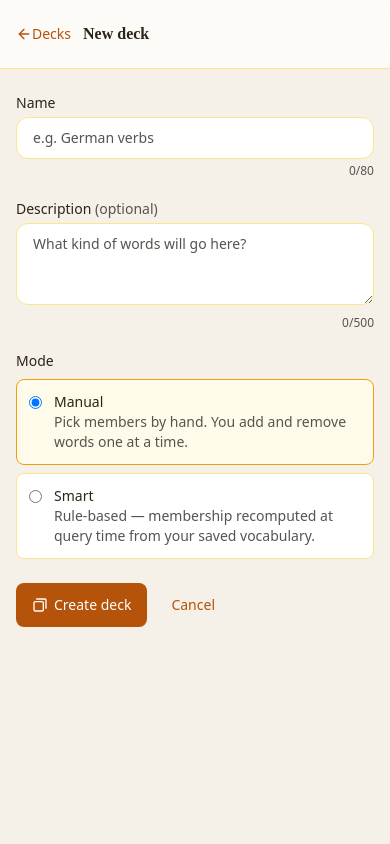
Test: non-ApiError during submission shows generic fallback error message
In the field with test id "deck-name-input": point(195, 138) [16,117,374,159], type "Test deck"
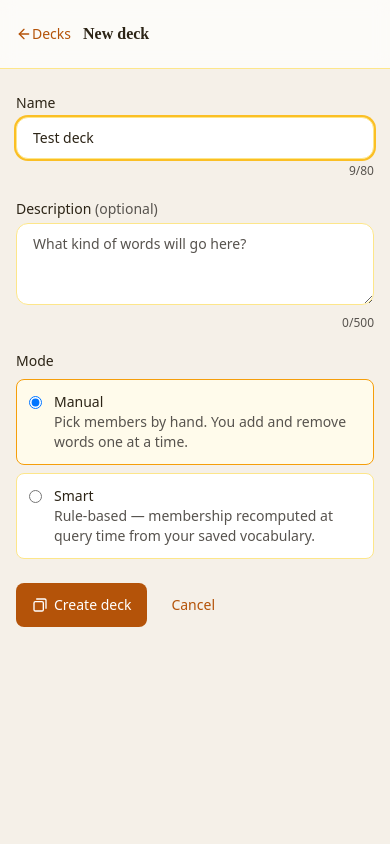
Click the button with test id "deck-submit-btn": point(82, 605) [16,583,147,627]
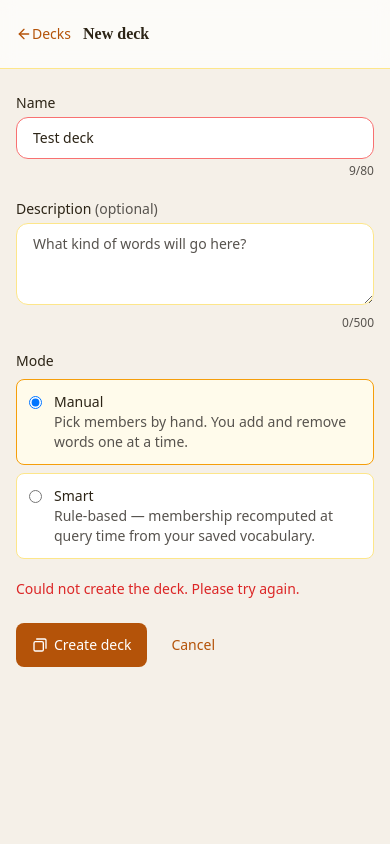
Now the message with test id "deck-form-error" shows "Could not create the deck", box [16,579,300,598]
